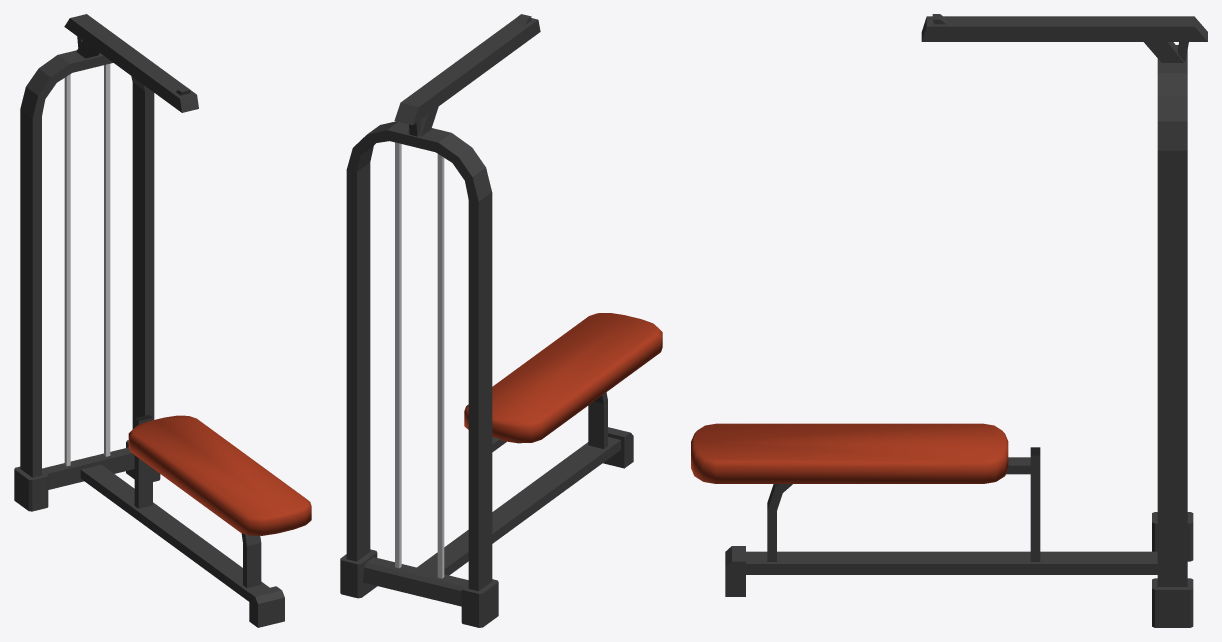
Rendered from emachine_2.glb.
3 renders of one model, left to right at view 1: azimuth 30°, elevation 25°; view 2: azimuth 150°, elevation 25°; view 3: azimuth 270°, elevation 25°, orthographic. The views are drawn at different scales.
Parts seen in each view (by area): view 1: E_Machine_2; view 2: E_Machine_2; view 3: E_Machine_2.
Boxes of the visible parts, left/top/right/bottom form: E_Machine_2: left=14, top=14, right=311, bottom=627; E_Machine_2: left=340, top=14, right=662, bottom=627; E_Machine_2: left=691, top=14, right=1207, bottom=627.
Size of the model in its own units: 0.6227 by 2.13 by 1.74.
1 material, 1 textured.
